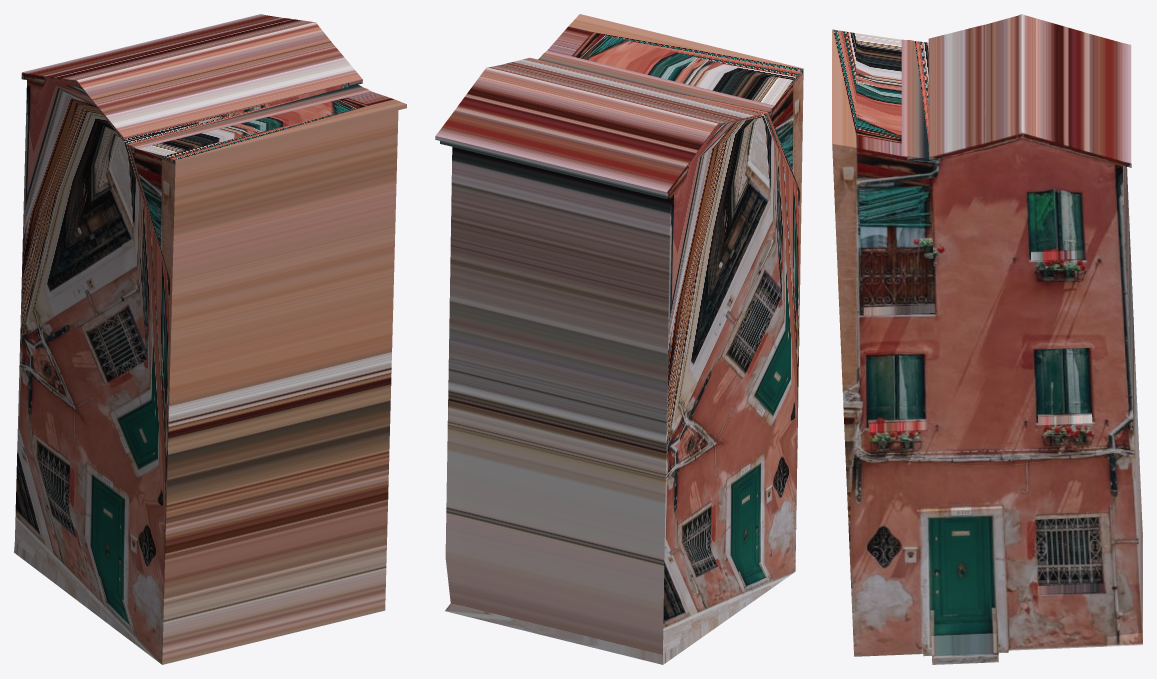
File: building_orange.glb
3 renders of one model, left to right at view 1: azimuth 30°, elevation 25°; view 2: azimuth 150°, elevation 25°; view 3: azimuth 270°, elevation 25°, orthographic. The views are drawn at different scales.
Visible parts, largest first — view 1: Empty.001; view 2: Empty.001; view 3: Empty.001.
Part boxes in pixels (x1,y1,x2,y2): Empty.001: (14,14,406,664); Empty.001: (435,14,803,664); Empty.001: (832,14,1142,664).
Bounding box in the file's own units: 3.92 × 7.85 × 4.16.
1 material, 1 textured.
